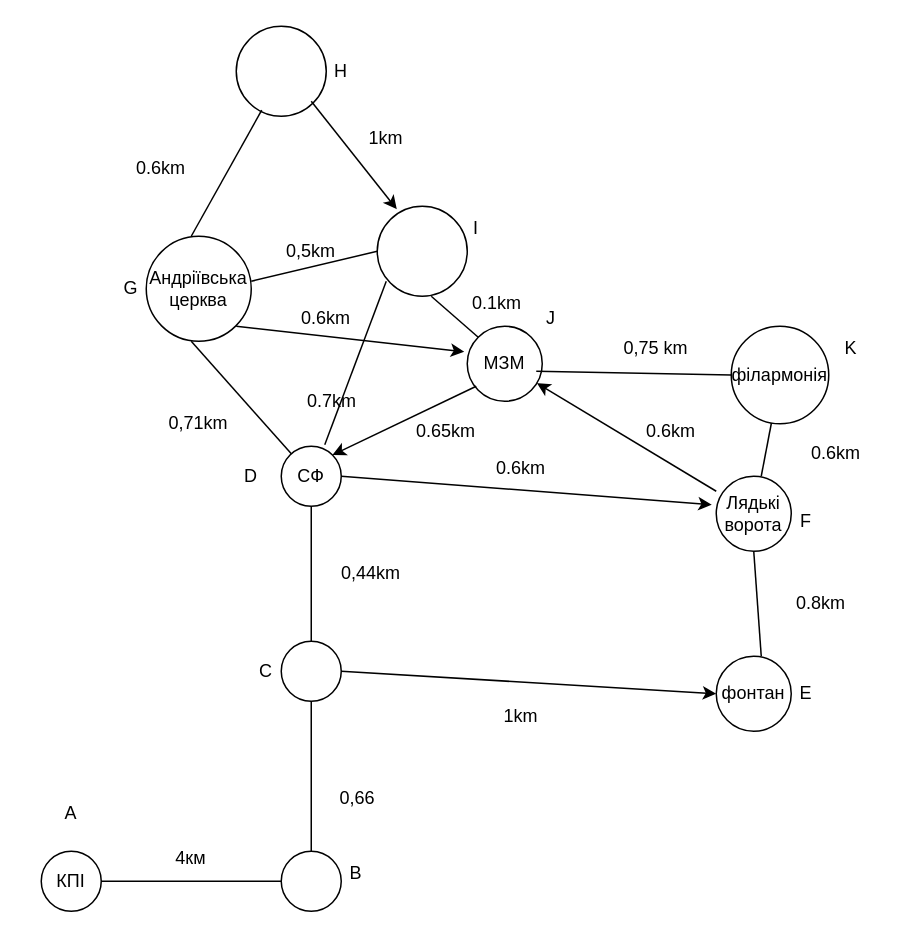
Some shapes in this 921 by 938 pixel diagram are drawn without their labels. The shapes that lost their labels are listed below. From the top down, each one's centre as x and y in pixels, then its label:
(280,70): Музей однієї вулиці
(421,250): фунікулер
(310,670): ЗВ
(310,880): ЧУ
